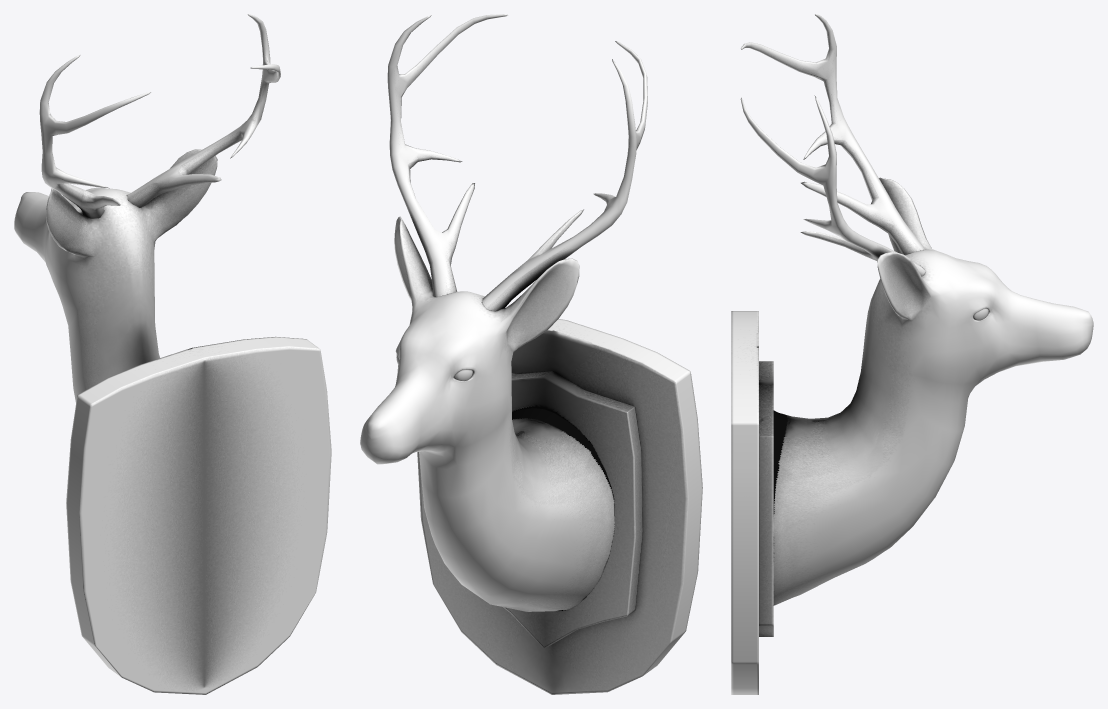
The model's file is Deer_Head.fbx.
3 views of the same model, side by side, from view 1: azimuth 30°, elevation 25°; view 2: azimuth 150°, elevation 25°; view 3: azimuth 270°, elevation 25° (orthographic). The views are drawn at different scales.
Visible parts, largest first — view 1: Deer_Head; view 2: Deer_Head; view 3: Deer_Head.
Part boxes in pixels (left/top/right/bottom): Deer_Head: left=14, top=14, right=331, bottom=694; Deer_Head: left=360, top=14, right=702, bottom=694; Deer_Head: left=731, top=14, right=1093, bottom=694.
Bounding box in the file's own units: 0.6779 × 1.62 × 0.8455.
